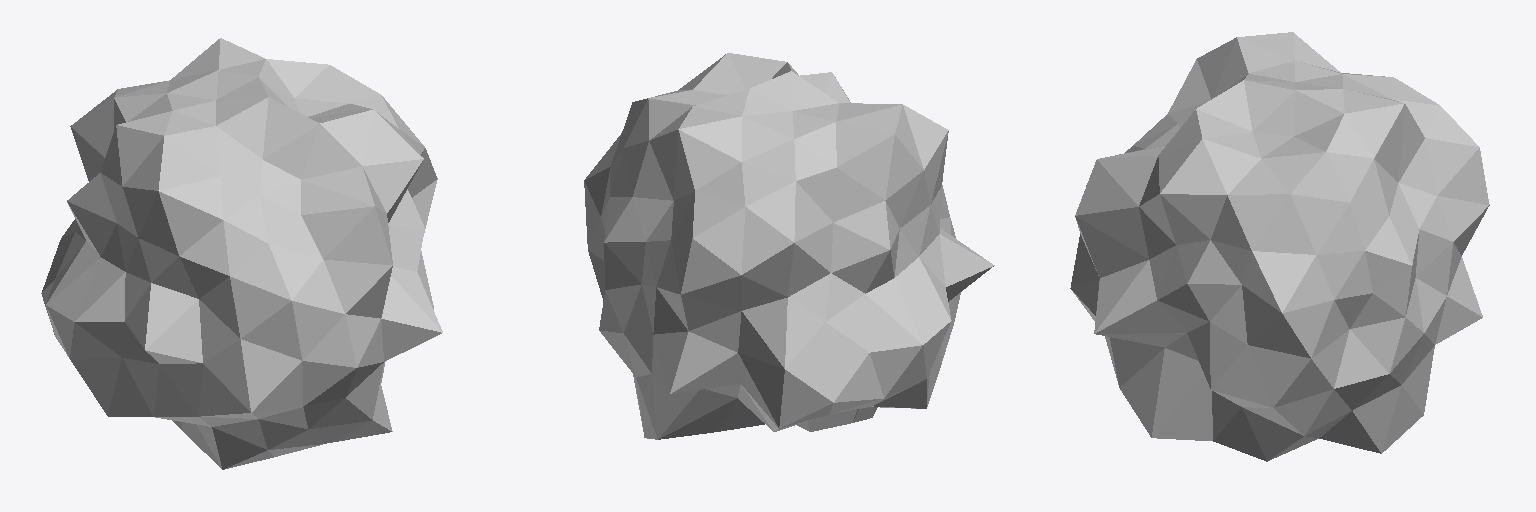
Rendered from asteroid3_collider.obj.
3 renders of one model, left to right at view 1: azimuth 30°, elevation 25°; view 2: azimuth 150°, elevation 25°; view 3: azimuth 270°, elevation 25°, orthographic.
Visible parts, largest first — view 1: Collider3; view 2: Collider3; view 3: Collider3.
Boxes of the visible parts, box(x1,y1,x2,y2) form: Collider3: box(41, 38, 442, 469); Collider3: box(584, 53, 994, 439); Collider3: box(1070, 32, 1489, 461).
Bounding box in the file's own units: 2.18 × 1.98 × 2.17.